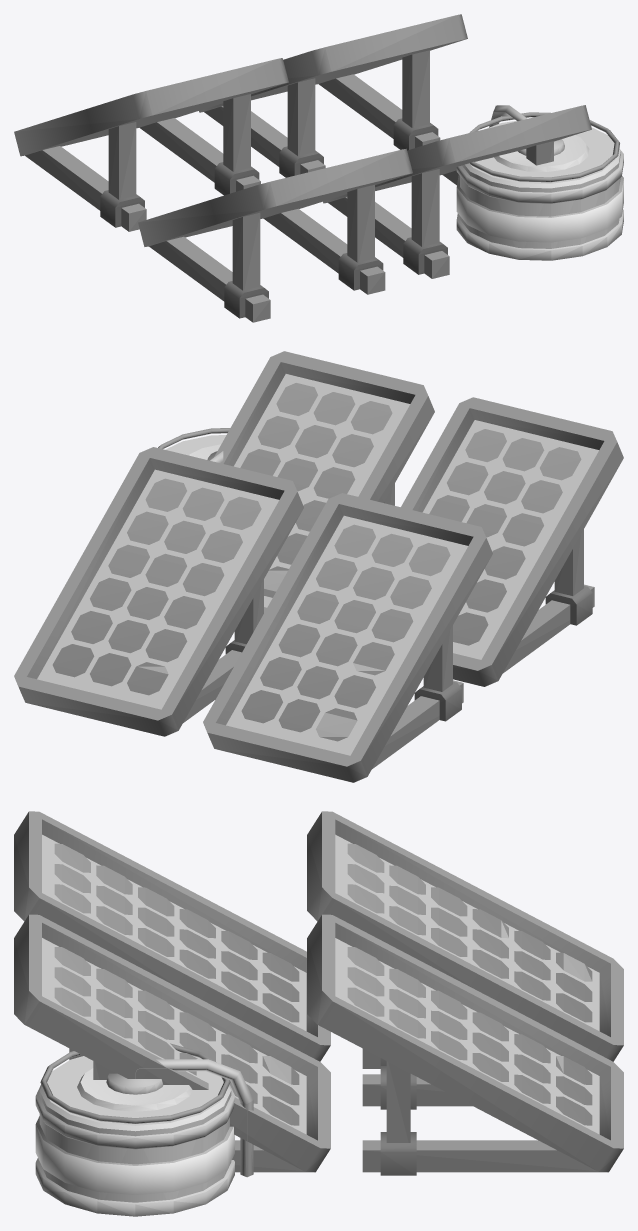
The model's file is solar_biomass.glb.
3 renders of one model, top to bottom at view 1: azimuth 30°, elevation 25°; view 2: azimuth 150°, elevation 25°; view 3: azimuth 270°, elevation 25°, orthographic. The views are drawn at different scales.
Parts seen in each view (by area): view 1: Body; view 2: Body; view 3: Body.
Part boxes in pixels (box(x1,y1,x2,y2)): Body: box(14, 14, 623, 322); Body: box(14, 351, 623, 782); Body: box(14, 811, 623, 1216).
Bounding box in the file's own units: 12.44 × 4.6 × 14.
2 materials, 1 textured.
